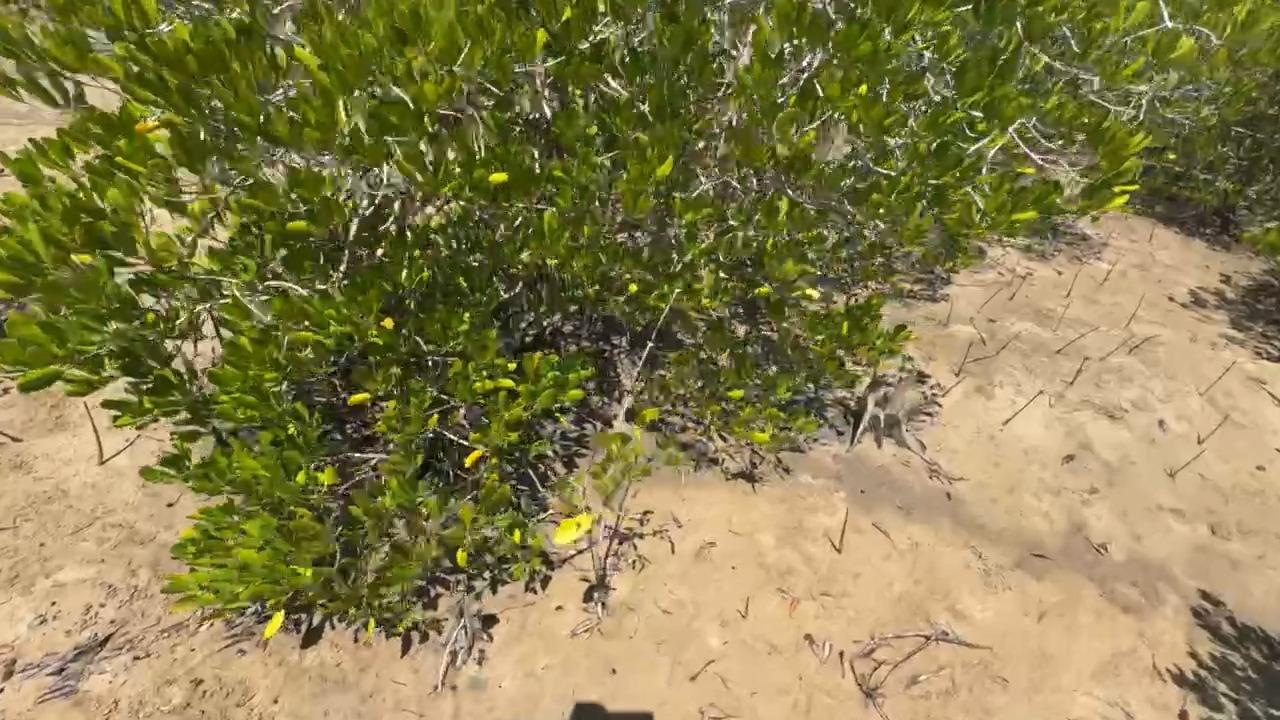Tree: (1003, 390, 1043, 426), (83, 400, 103, 467), (1200, 359, 1235, 396), (1055, 326, 1099, 354), (1171, 448, 1208, 477), (1200, 413, 1230, 445), (1123, 292, 1146, 328), (1127, 333, 1161, 354), (956, 341, 974, 377), (995, 331, 1021, 355), (689, 659, 715, 682), (1069, 357, 1089, 385), (941, 376, 966, 398), (871, 522, 895, 544), (1008, 276, 1028, 302), (1099, 260, 1119, 285), (1053, 302, 1070, 331), (1064, 269, 1081, 298), (838, 506, 848, 555), (980, 288, 1003, 308), (1084, 536, 1104, 556), (1030, 552, 1054, 561), (945, 302, 954, 324), (744, 596, 749, 619), (1148, 226, 1155, 242)
